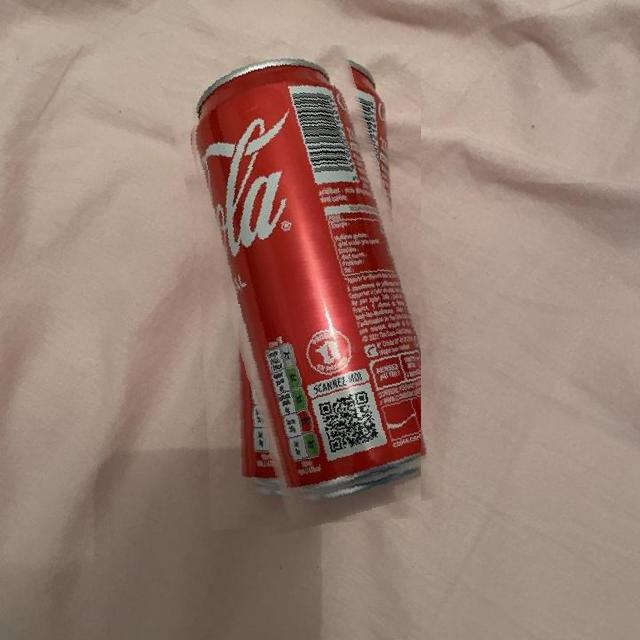recyclable: (187, 45, 421, 530)
